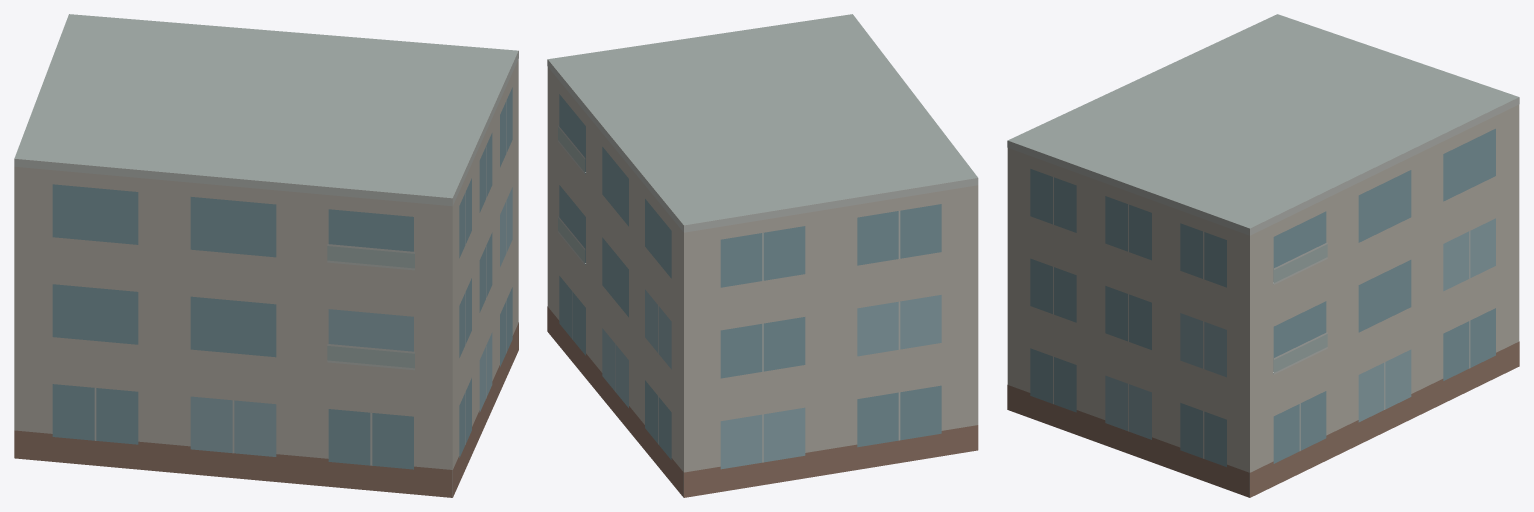
The model's file is survey-upis-32722090.glb.
3 renders of one model, left to right at view 1: azimuth 30°, elevation 25°; view 2: azimuth 150°, elevation 25°; view 3: azimuth 270°, elevation 25°, orthographic. The views are drawn at different scales.
Visible parts, largest first — view 1: survey-upis-32722090.tmp; view 2: survey-upis-32722090.tmp; view 3: survey-upis-32722090.tmp.
Boxes of the visible parts, bbox=[...] form: survey-upis-32722090.tmp: bbox=[14, 14, 518, 497]; survey-upis-32722090.tmp: bbox=[547, 14, 978, 497]; survey-upis-32722090.tmp: bbox=[1007, 14, 1519, 497].
Bounding box in the file's own units: 15.64 × 9.15 × 15.77.
